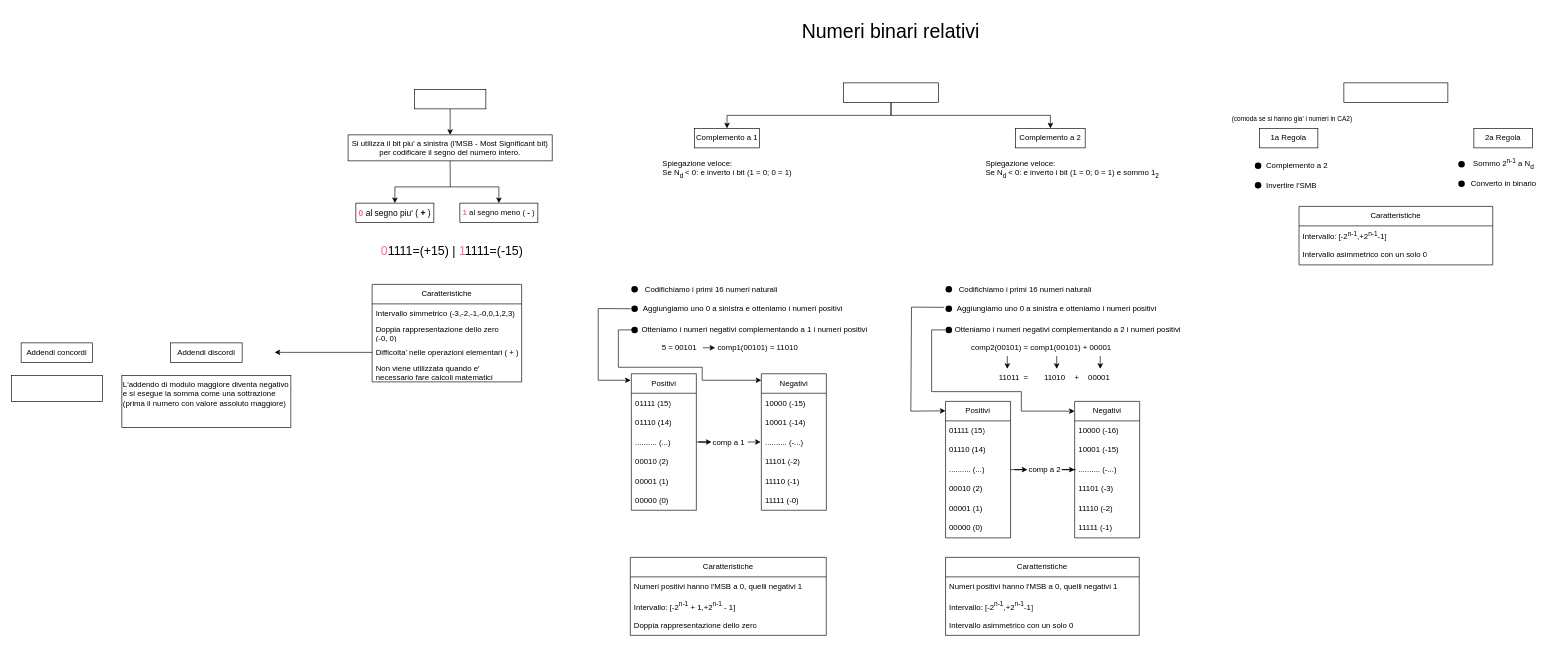
This 1550x647 diagram has some shape labels left out. Each missing label, with the centre of its shape:
"Complemento alla base" belongs at [891,92].
"Eccesso 2 (n-1)" belongs at [1395,92].
"Modulo e Segno" belongs at [450,99].
"Semplice somma (con possibile overflow)" belongs at [56,388].
